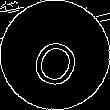O_NE: (25, 23, 85, 87)
